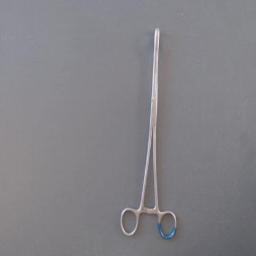Sponge Forceps: (116, 22, 180, 244)
